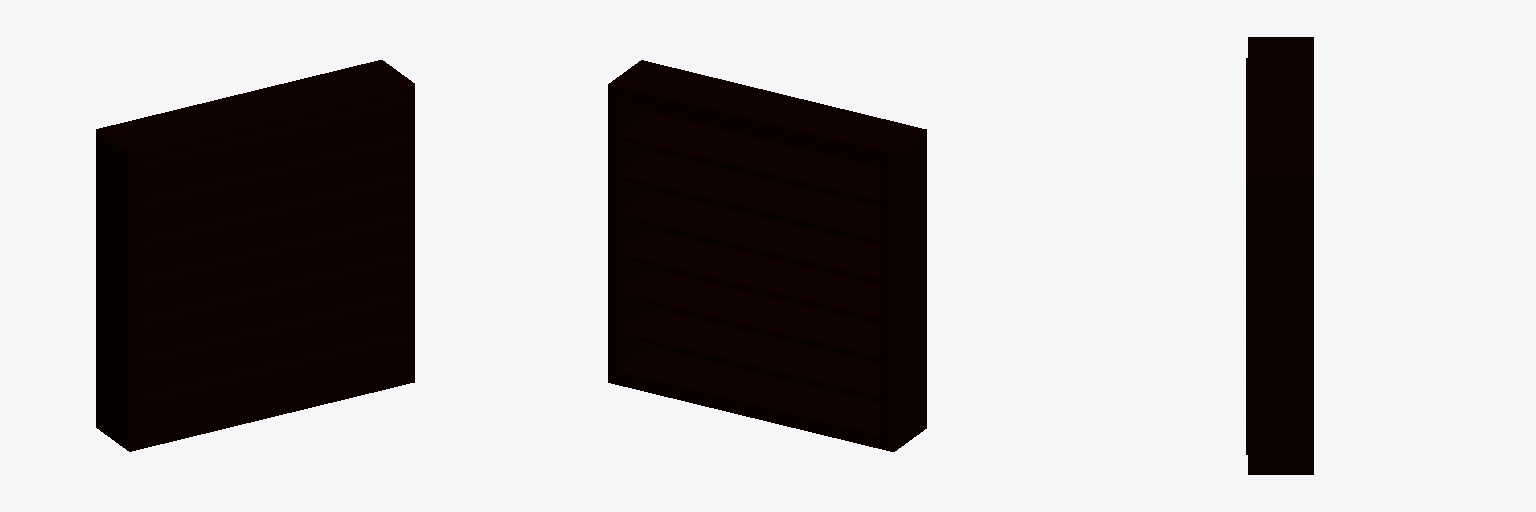
File: boekenkast.obj
3 renders of one model, left to right at view 1: azimuth 30°, elevation 25°; view 2: azimuth 150°, elevation 25°; view 3: azimuth 270°, elevation 25°, orthographic.
Visible parts, largest first — view 1: Cube_Cube.001; view 2: Cube_Cube.001; view 3: Cube_Cube.001.
Boxes of the visible parts, x1=… form: Cube_Cube.001: x1=96, y1=60, x2=414, y2=451; Cube_Cube.001: x1=608, y1=60, x2=926, y2=451; Cube_Cube.001: x1=1246, y1=37, x2=1313, y2=474.
Bounding box in the file's own units: 2 × 2 × 0.4075.